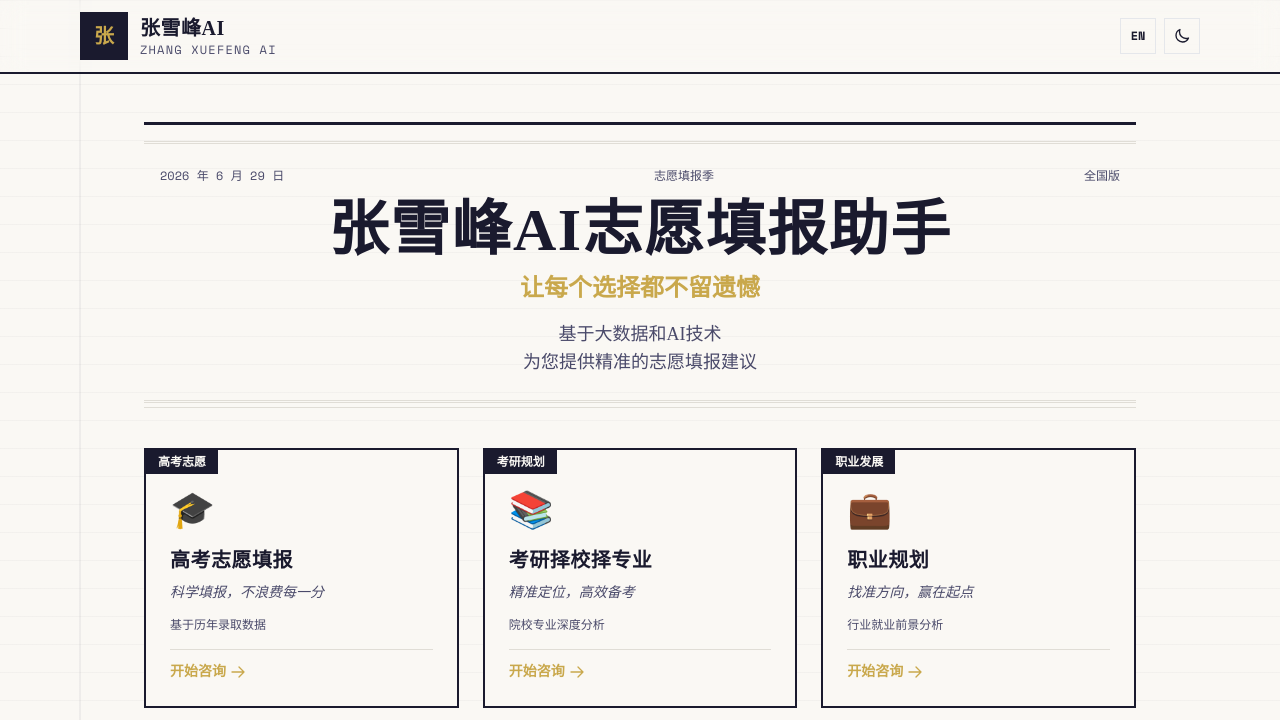
App › navigates to form view when a scenario is selected
The image size is (1280, 720).
Click the list item "高考志愿 🎓 高考志愿填报 科学填报，不浪费每一分 基于历年录取数据 开始咨询".
click(182, 462)  # box [144,448,459,708]
(page scrolled)
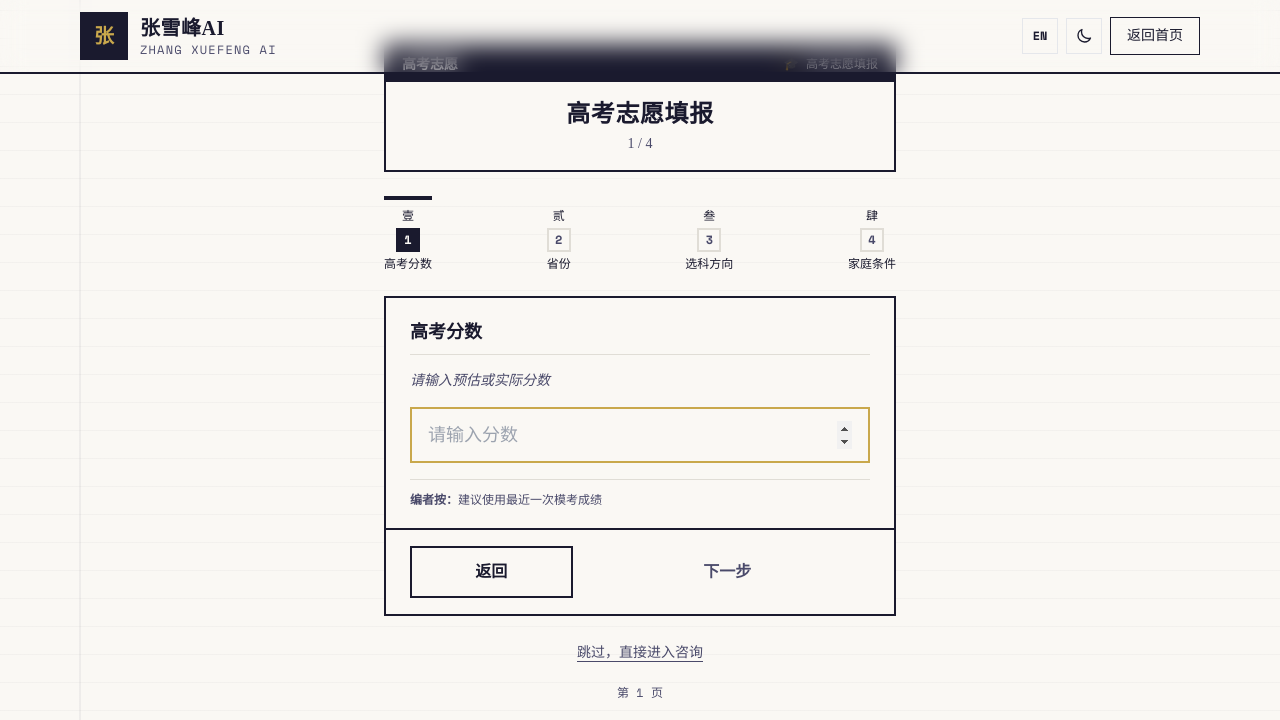
Now the form is shown, box [384,44,896,701]
